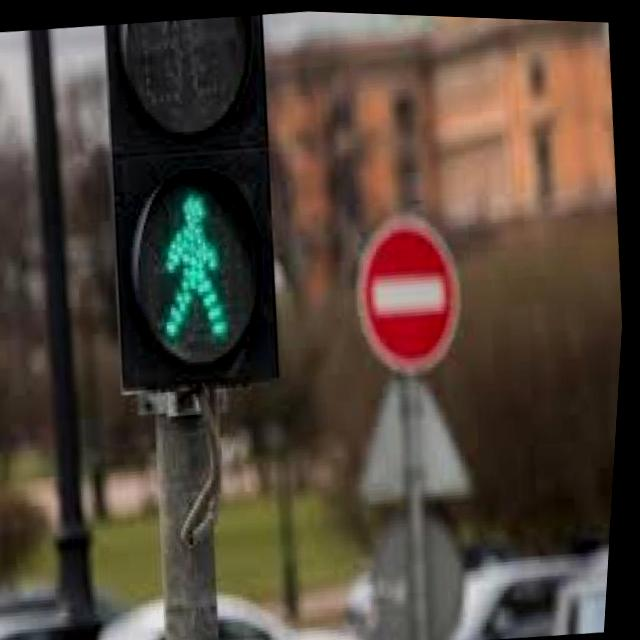green_light: (144, 184, 253, 357)
